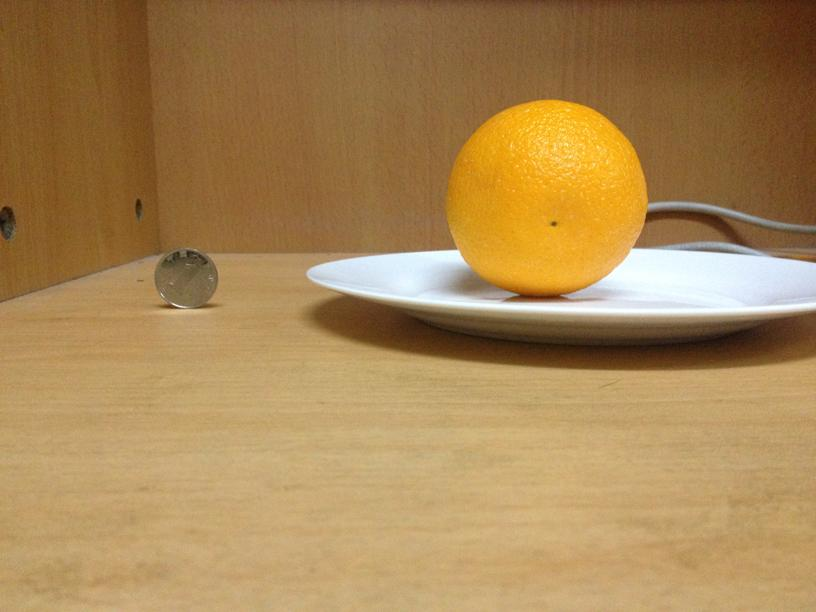coin: (153, 246, 220, 308)
orange: (447, 98, 649, 293)
